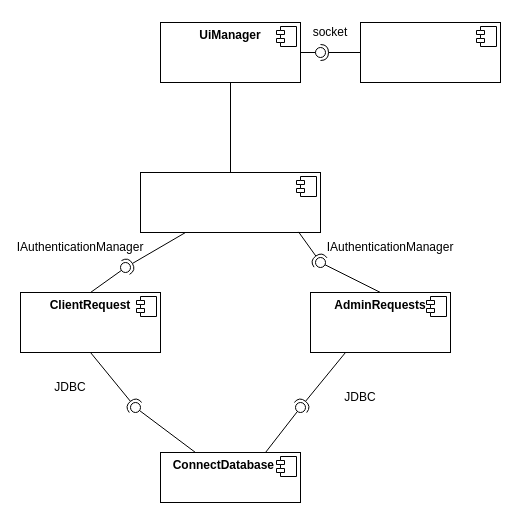
Image size: 518x520. Some labels were removed from this diagram. Each missing label, with the centre of its shape:
AuthenticationManager: pixel 230 202
Client: pixel 430 52
